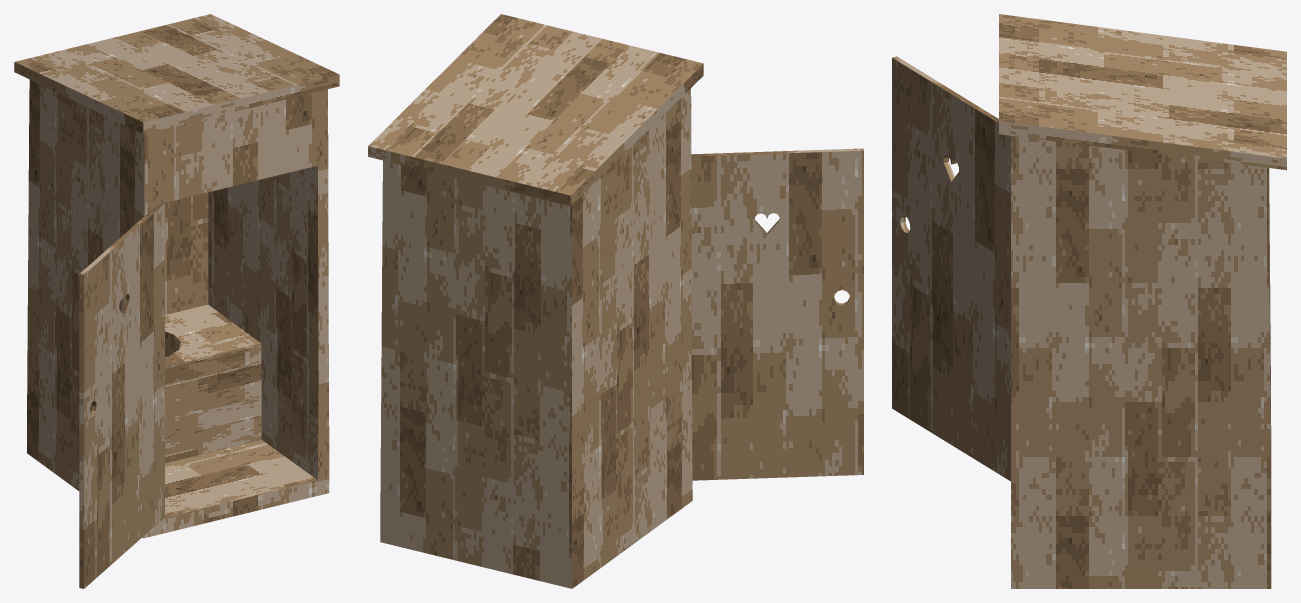
The model's file is Shitter.fbx.
3 renders of one model, left to right at view 1: azimuth 30°, elevation 25°; view 2: azimuth 150°, elevation 25°; view 3: azimuth 270°, elevation 25°, orthographic. The views are drawn at different scales.
Parts seen in each view (by area): view 1: Shitter, ShitterDoor; view 2: Shitter, ShitterDoor; view 3: Shitter, ShitterDoor.
Boxes of the visible parts, x1,y1,x2,y2 form: Shitter: [14, 14, 339, 538]; ShitterDoor: [79, 203, 164, 588]; Shitter: [368, 14, 703, 588]; ShitterDoor: [691, 148, 863, 480]; Shitter: [999, 14, 1286, 588]; ShitterDoor: [892, 56, 1010, 481].
Bounding box in the file's own units: 173 × 227 × 173.
Materials: 2 (1 with a texture image).
